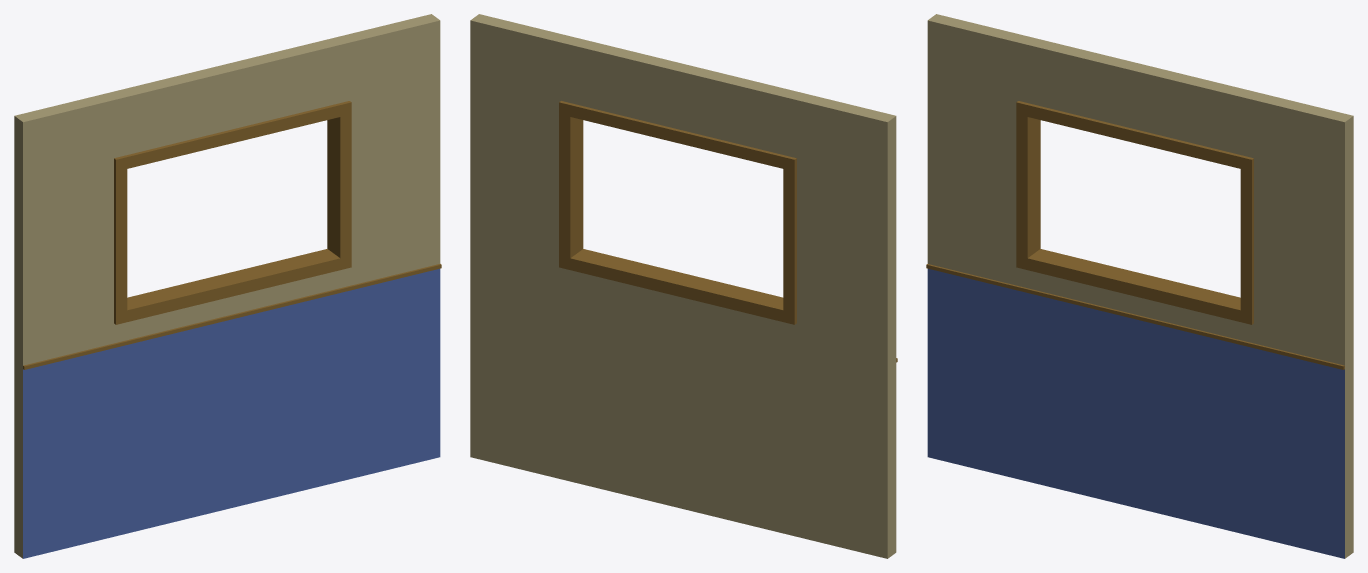
Rendered from Retro Wall Window Extruded.fbx.
The picture shows the model from 3 angles, left to right: view 1: azimuth 30°, elevation 25°; view 2: azimuth 150°, elevation 25°; view 3: azimuth 330°, elevation 25°; orthographic projection.
Parts seen in each view (by area): view 1: retro_wall_window_extruded; view 2: retro_wall_window_extruded; view 3: retro_wall_window_extruded.
Part boxes in pixels (x1,y1,x2,y2): retro_wall_window_extruded: (14, 14, 441, 558); retro_wall_window_extruded: (470, 14, 897, 558); retro_wall_window_extruded: (926, 14, 1353, 558).
Bounding box in the file's own units: 300 × 300 × 16.19.
